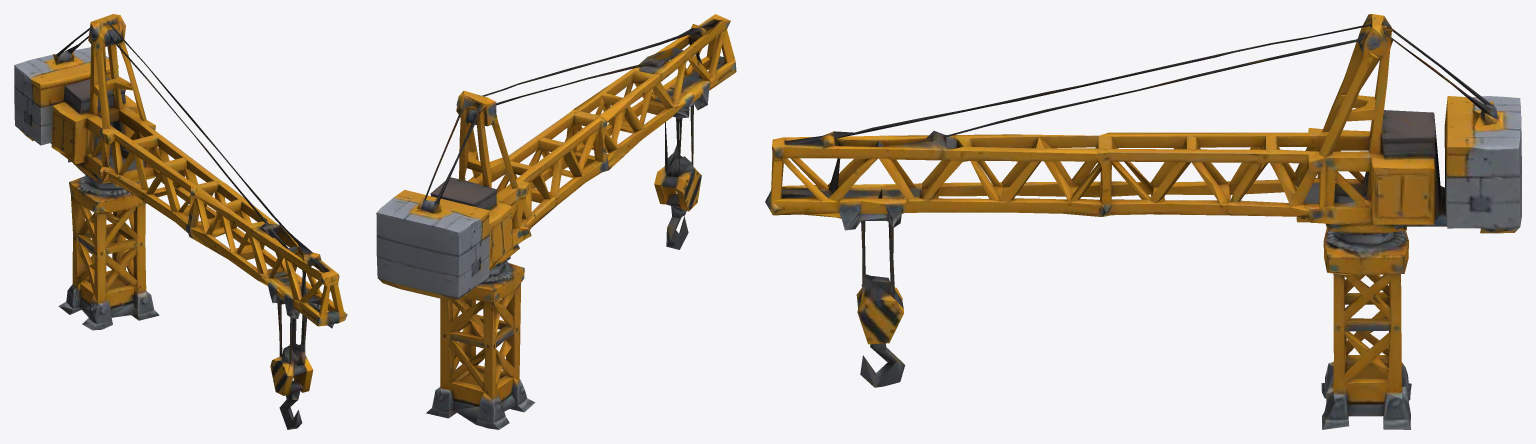
File: craneJibI.glb
3 views of the same model, side by side, from view 1: azimuth 30°, elevation 25°; view 2: azimuth 150°, elevation 25°; view 3: azimuth 270°, elevation 25° (orthographic). The views are drawn at different scales.
Parts seen in each view (by area): view 1: model; view 2: model; view 3: model.
Part boxes in pixels (x1,y1,x2,y2): model: (14,14,347,429); model: (376,14,736,429); model: (765,14,1521,429).
Size of the model in its own units: 0.308 by 1.08 by 1.9.
1 material, 1 textured.
